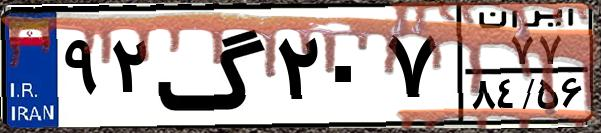0: (330, 28, 385, 110)
2: (270, 28, 330, 110), (110, 28, 156, 98)
4: (495, 70, 520, 125)
5: (535, 70, 560, 125)
6: (560, 70, 590, 125)
7: (385, 28, 445, 110), (537, 27, 568, 80), (508, 27, 537, 80)
8: (470, 70, 495, 125)
9: (57, 26, 110, 100)
گ: (156, 12, 270, 120)
